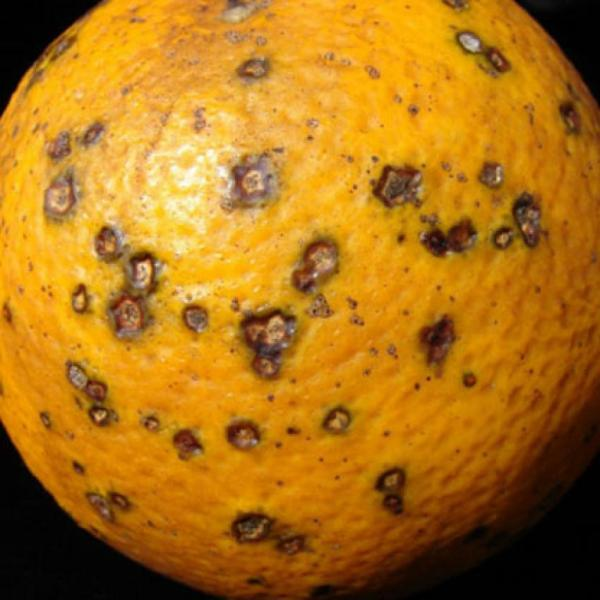Trips: (0, 0, 599, 588)
